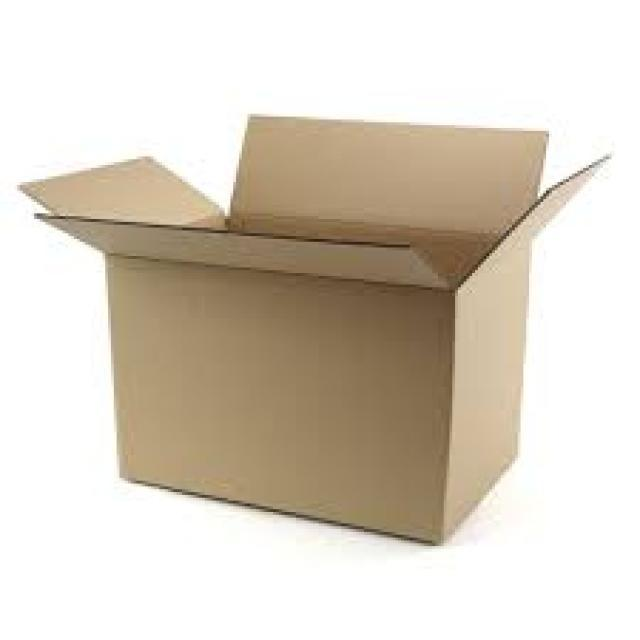Cardboard Paper: (0, 104, 621, 578)
